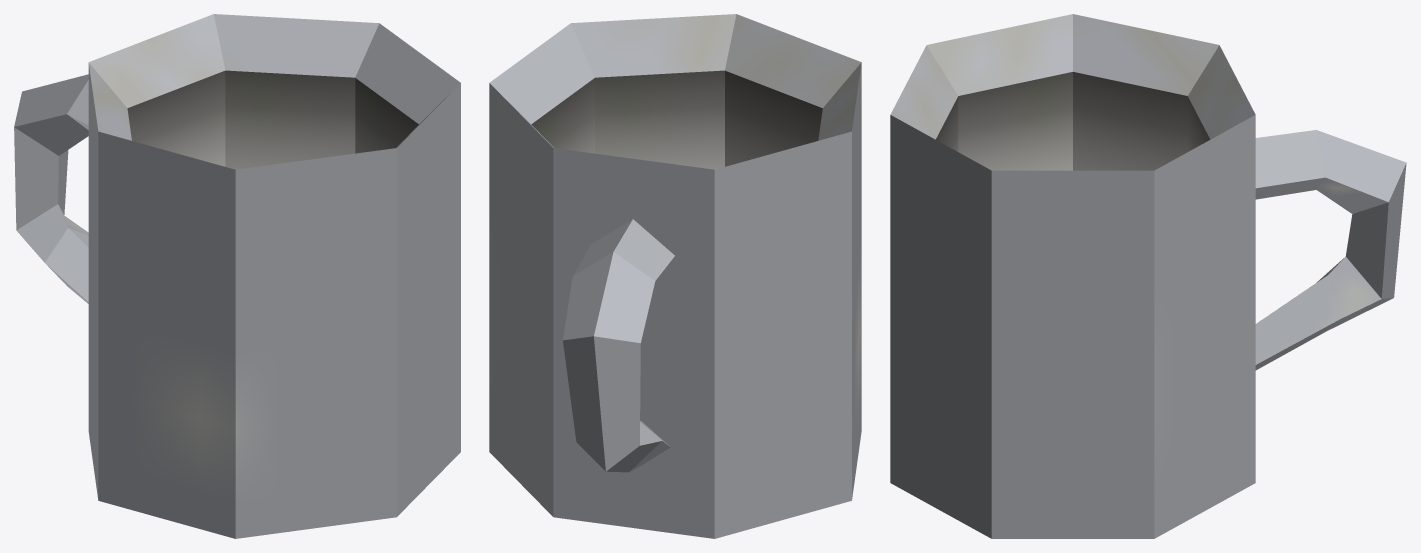
Rendered from cup.fbx.
3 renders of one model, left to right at view 1: azimuth 30°, elevation 25°; view 2: azimuth 150°, elevation 25°; view 3: azimuth 270°, elevation 25°, orthographic.
Parts seen in each view (by area): view 1: Desk.001; view 2: Desk.001; view 3: Desk.001.
Boxes of the visible parts, x1,y1,x2,y2 form: Desk.001: (14, 14, 460, 538); Desk.001: (489, 14, 861, 538); Desk.001: (890, 14, 1406, 538).
Size of the model in its own units: 0.0951 by 0.1324 by 0.1042.
Materials: 1 (1 with a texture image).
